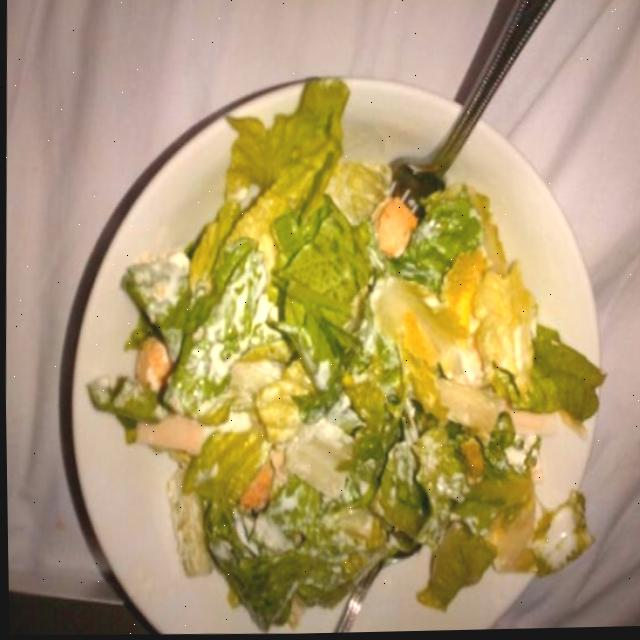蔬菜料理: (57, 62, 624, 639)
